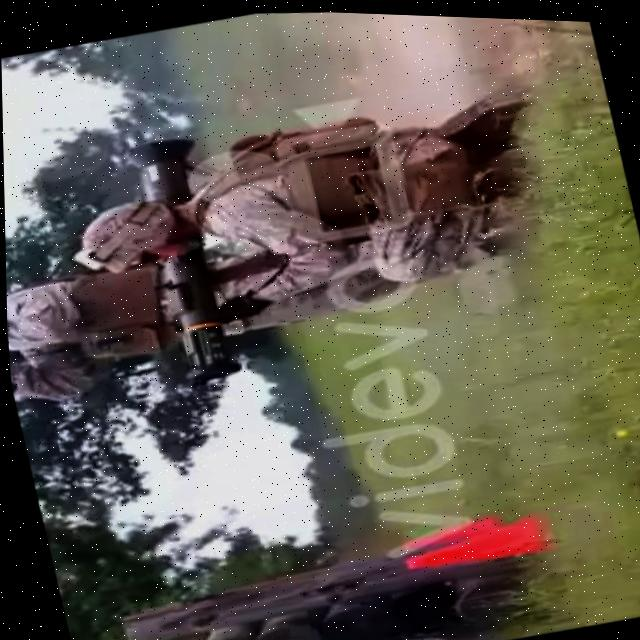rocket: (122, 130, 240, 391)
